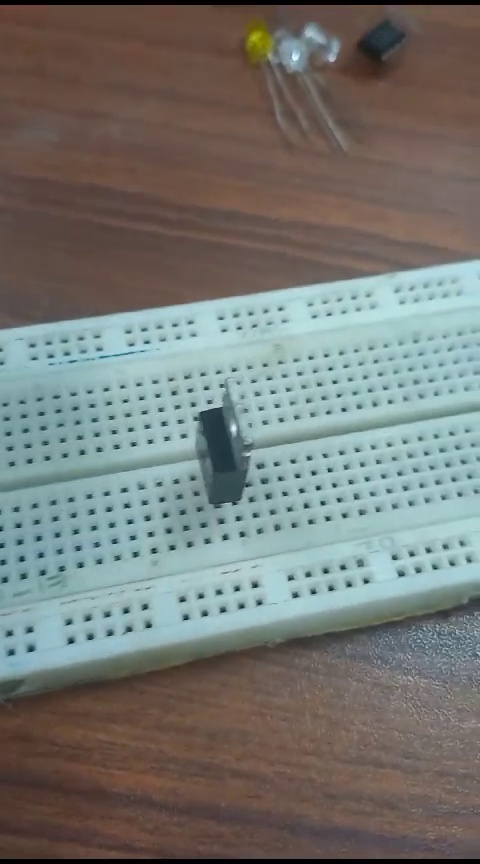voltage regulator: (186, 375, 253, 525)
